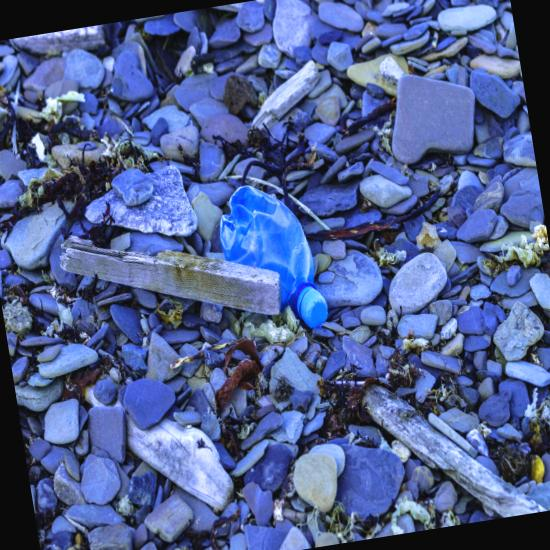Cigarette: (166, 479, 187, 494), (275, 515, 284, 539), (182, 438, 196, 447), (71, 337, 79, 350), (128, 243, 135, 257), (235, 543, 248, 550), (131, 329, 136, 344), (89, 202, 95, 214), (58, 303, 67, 311), (56, 99, 63, 109), (83, 178, 88, 189), (56, 131, 62, 139)
Paper cup: (173, 484, 218, 544), (122, 277, 153, 319), (141, 275, 155, 309)
Unlabeled litter: (136, 416, 148, 428), (138, 367, 150, 379), (195, 470, 202, 490), (167, 448, 176, 461), (36, 91, 43, 95)
